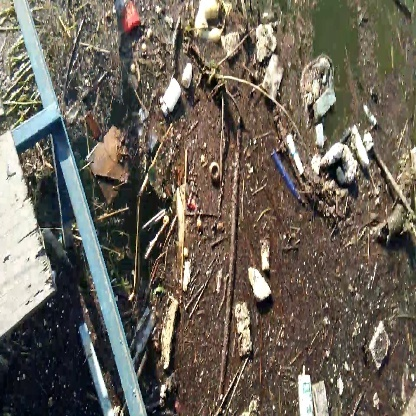branch: (221, 134, 241, 379)
